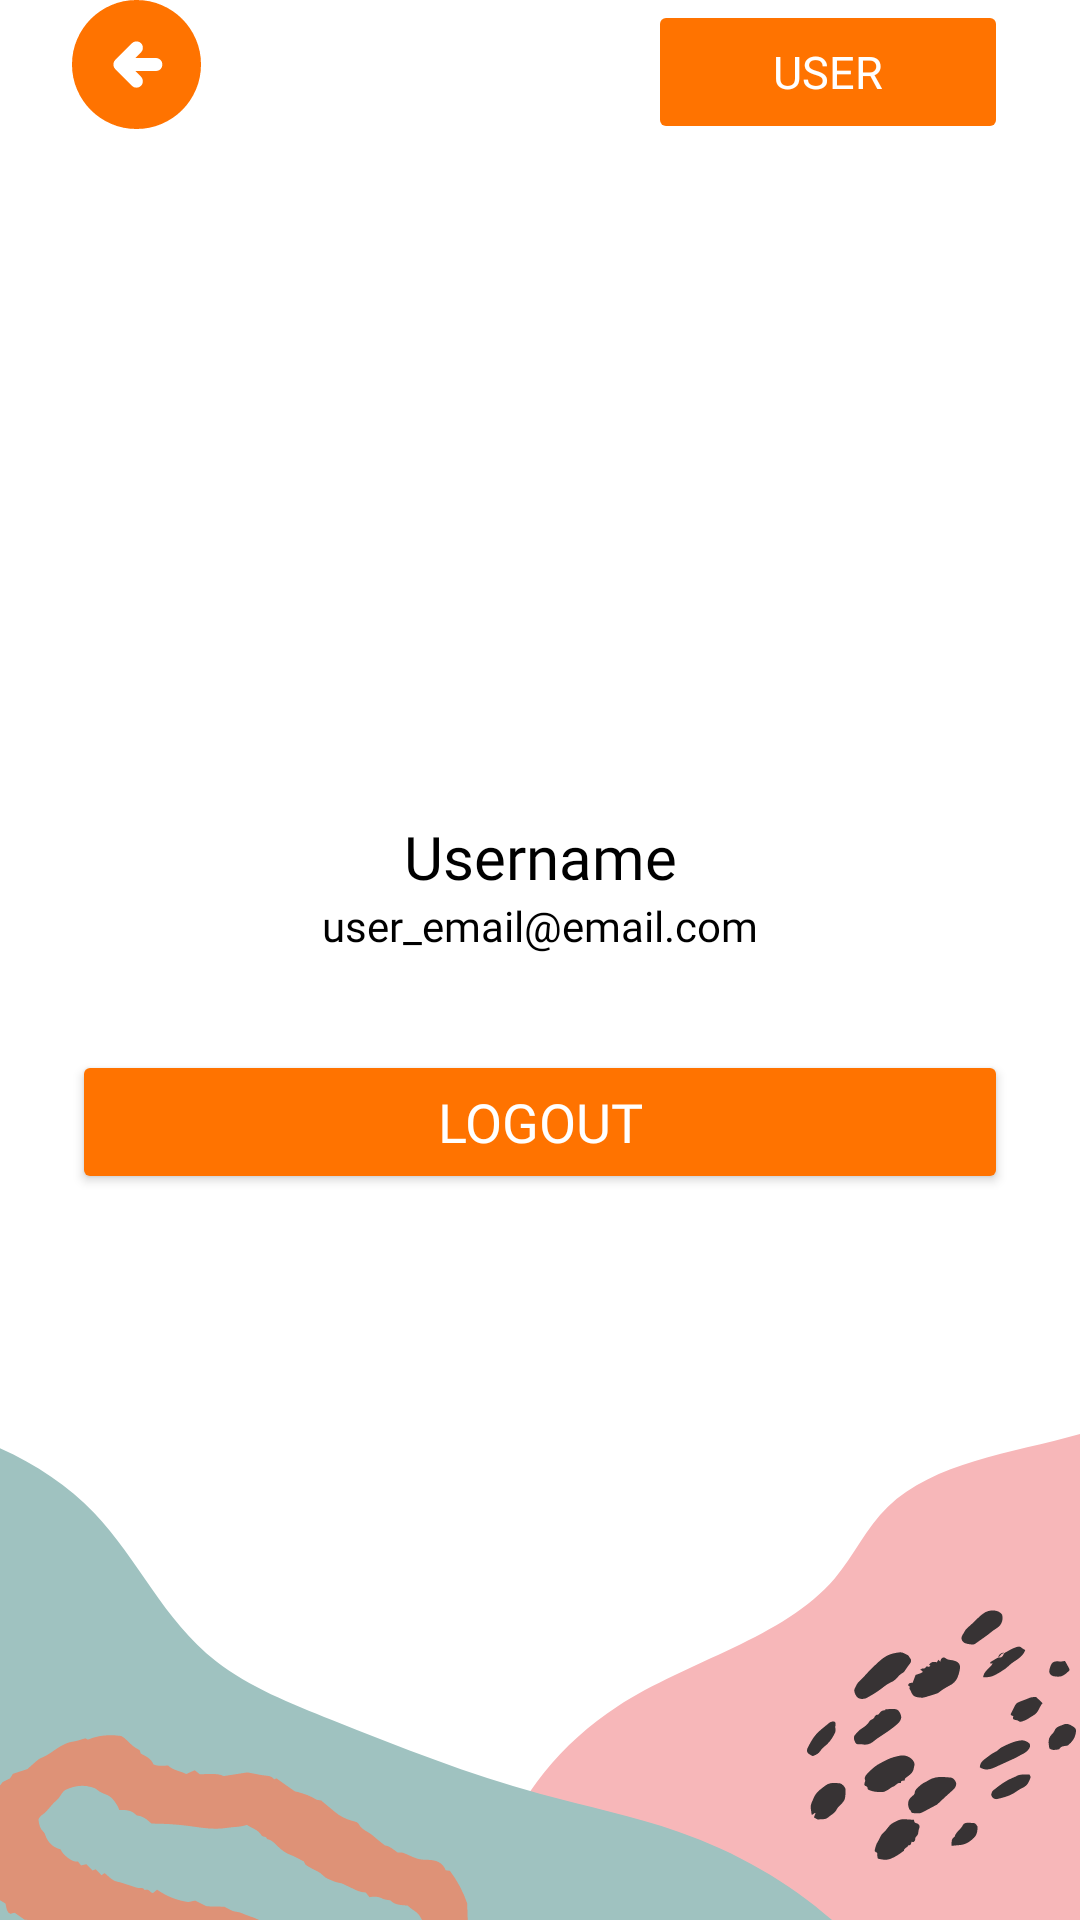

Where icons sit on this 1080*1920 app screen, as [x1,y1,x2,y2]:
back: [72,0,201,129]
